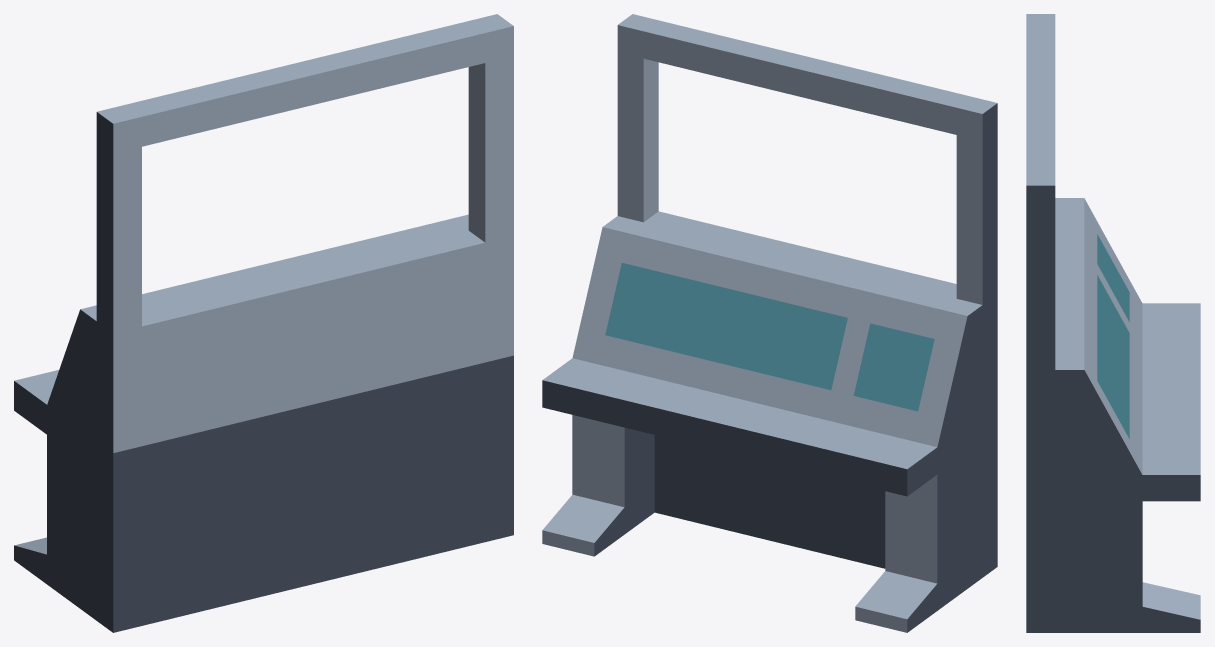
The model's file is desk_computerScreen.glb.
3 views of the same model, side by side, from view 1: azimuth 30°, elevation 25°; view 2: azimuth 150°, elevation 25°; view 3: azimuth 270°, elevation 25° (orthographic). The views are drawn at different scales.
Visible parts, largest first — view 1: desk_computerScreen; view 2: desk_computerScreen; view 3: desk_computerScreen.
Boxes of the visible parts, bbox=[...] form: desk_computerScreen: bbox=[14, 14, 513, 632]; desk_computerScreen: bbox=[542, 14, 997, 632]; desk_computerScreen: bbox=[1026, 14, 1200, 632].
Bounding box in the file's own units: 0.525 × 0.6375 × 0.225.
